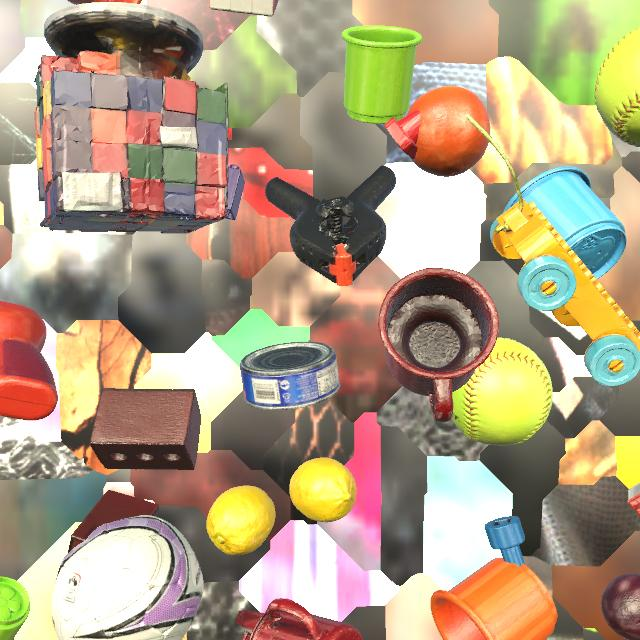ycb_007_tuna_fish_can: (240, 341, 340, 410)
ycb_009_gelatin_box: (627, 483, 640, 516)
ycb_014_lemon: (206, 485, 275, 556), (289, 457, 357, 522)
ycb_017_orange: (406, 86, 490, 177)
ycb_018_plum: (601, 574, 640, 640)
